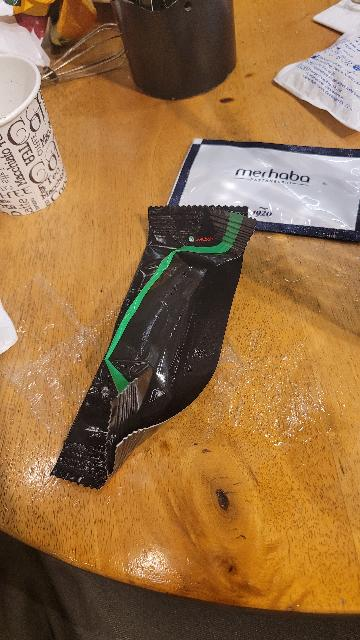Kagit: (0, 56, 66, 215)
Metal: (113, 1, 240, 99)
Plastik: (54, 204, 248, 494), (173, 137, 360, 249), (271, 29, 360, 136)
